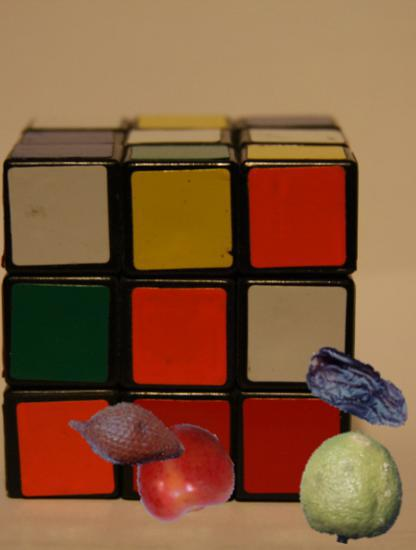Cherry: (132, 424, 231, 523)
Dates: (298, 334, 415, 451)
Limes: (296, 430, 411, 545)
Salak: (66, 373, 188, 495)
